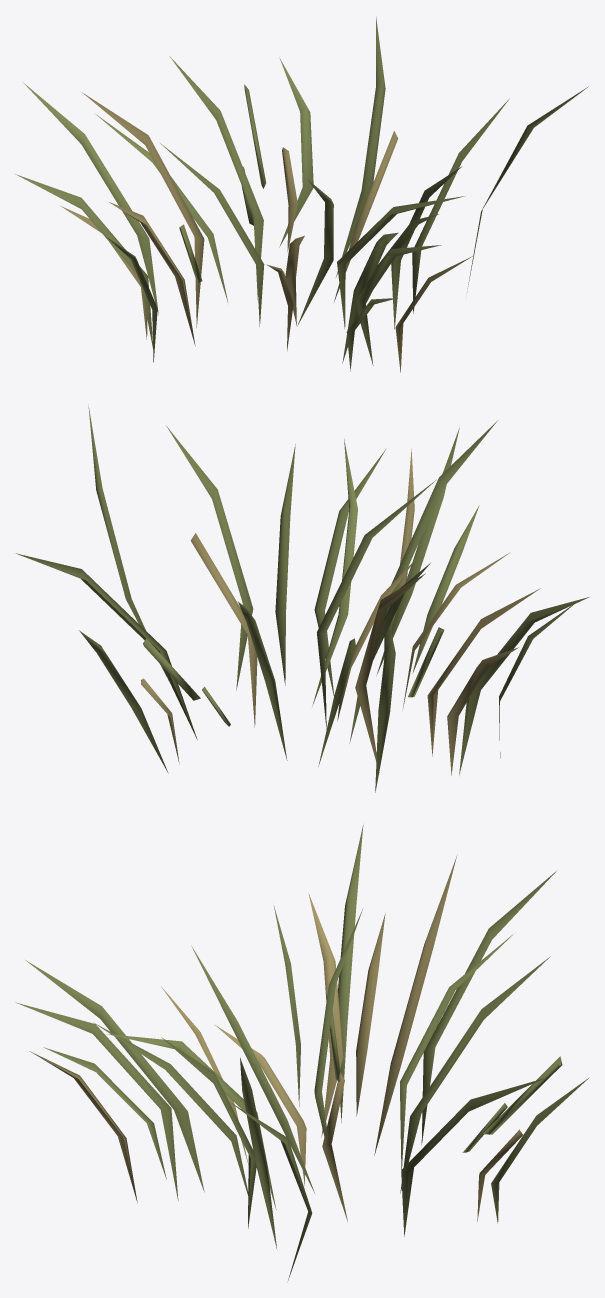
The model's file is Herbes_Etale_LOD1.fbx.
The picture shows the model from 3 angles, top to bottom: view 1: azimuth 30°, elevation 25°; view 2: azimuth 150°, elevation 25°; view 3: azimuth 270°, elevation 25°; orthographic projection. The views are drawn at different scales.
Visible parts, largest first — view 1: Herbes_Etale_LOD1; view 2: Herbes_Etale_LOD1; view 3: Herbes_Etale_LOD1.
Boxes of the visible parts, x1=… form: Herbes_Etale_LOD1: x1=15, y1=17, x2=588, y2=372; Herbes_Etale_LOD1: x1=16, y1=404, x2=589, y2=792; Herbes_Etale_LOD1: x1=15, y1=825, x2=589, y2=1280.
Bounding box in the file's own units: 97.42 × 41.41 × 83.36.
